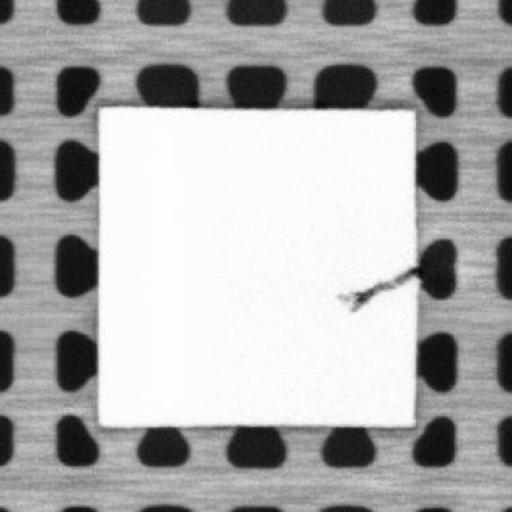DIE_INK: (333, 262, 415, 315)
